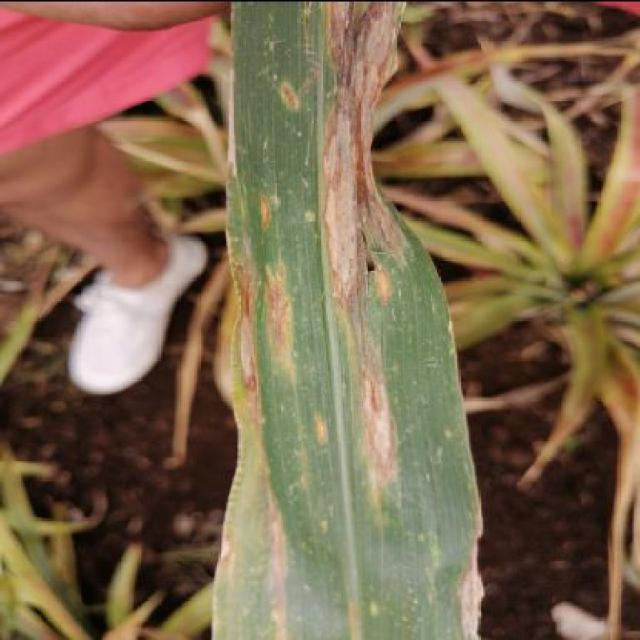Corn_Leaf_Blight: (220, 0, 482, 640)
